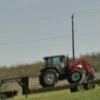Tractor: (34, 46, 92, 93)
